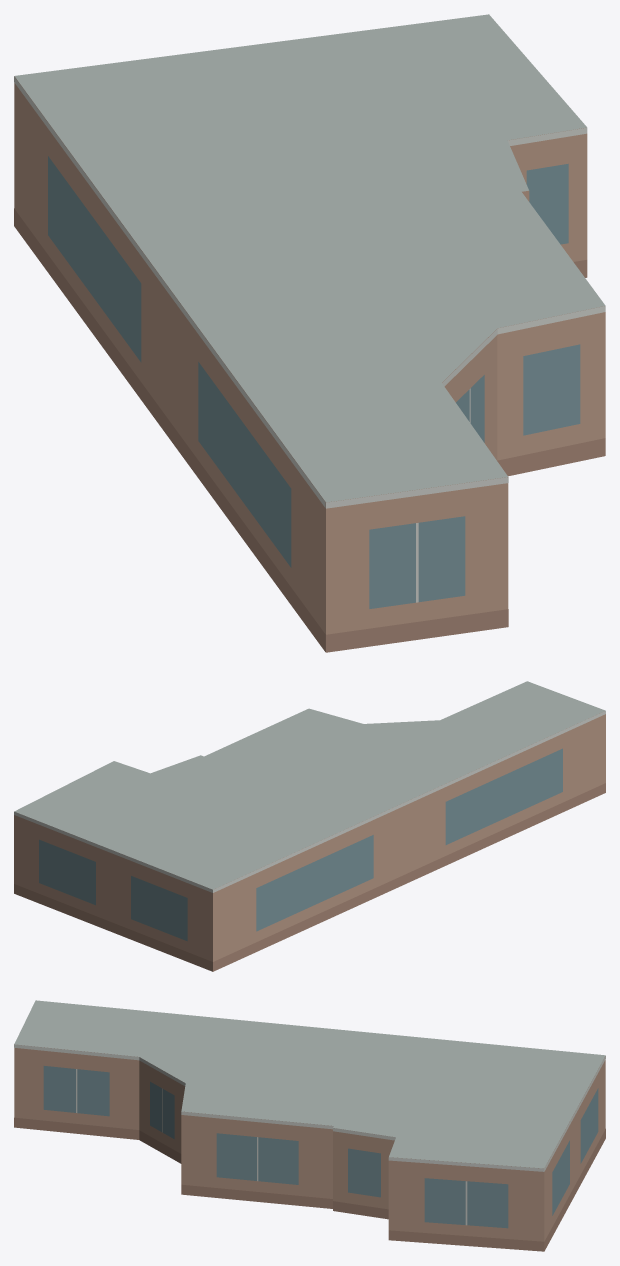
The model's file is survey-upis-32673256.glb.
3 renders of one model, top to bottom at view 1: azimuth 30°, elevation 25°; view 2: azimuth 150°, elevation 25°; view 3: azimuth 270°, elevation 25°, orthographic. The views are drawn at different scales.
Parts seen in each view (by area): view 1: survey-upis-32673256.tmp; view 2: survey-upis-32673256.tmp; view 3: survey-upis-32673256.tmp.
Part boxes in pixels (x1,y1,x2,y2): survey-upis-32673256.tmp: [14, 14, 605, 652]; survey-upis-32673256.tmp: [14, 681, 605, 971]; survey-upis-32673256.tmp: [14, 1000, 605, 1251].
Bounding box in the file's own units: 13.25 × 3.05 × 19.7.
